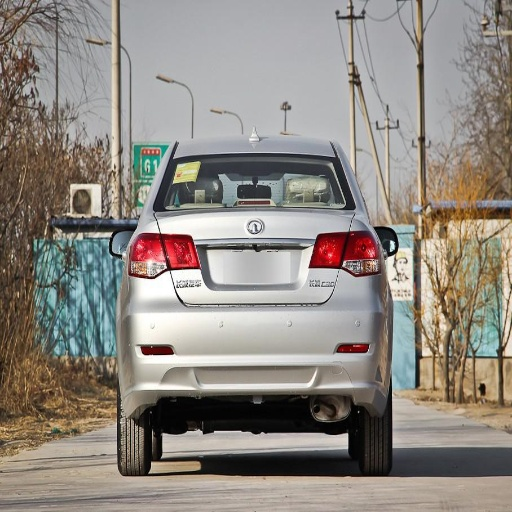back_bumper: (115, 269, 389, 419)
tailgate: (154, 205, 352, 305)
